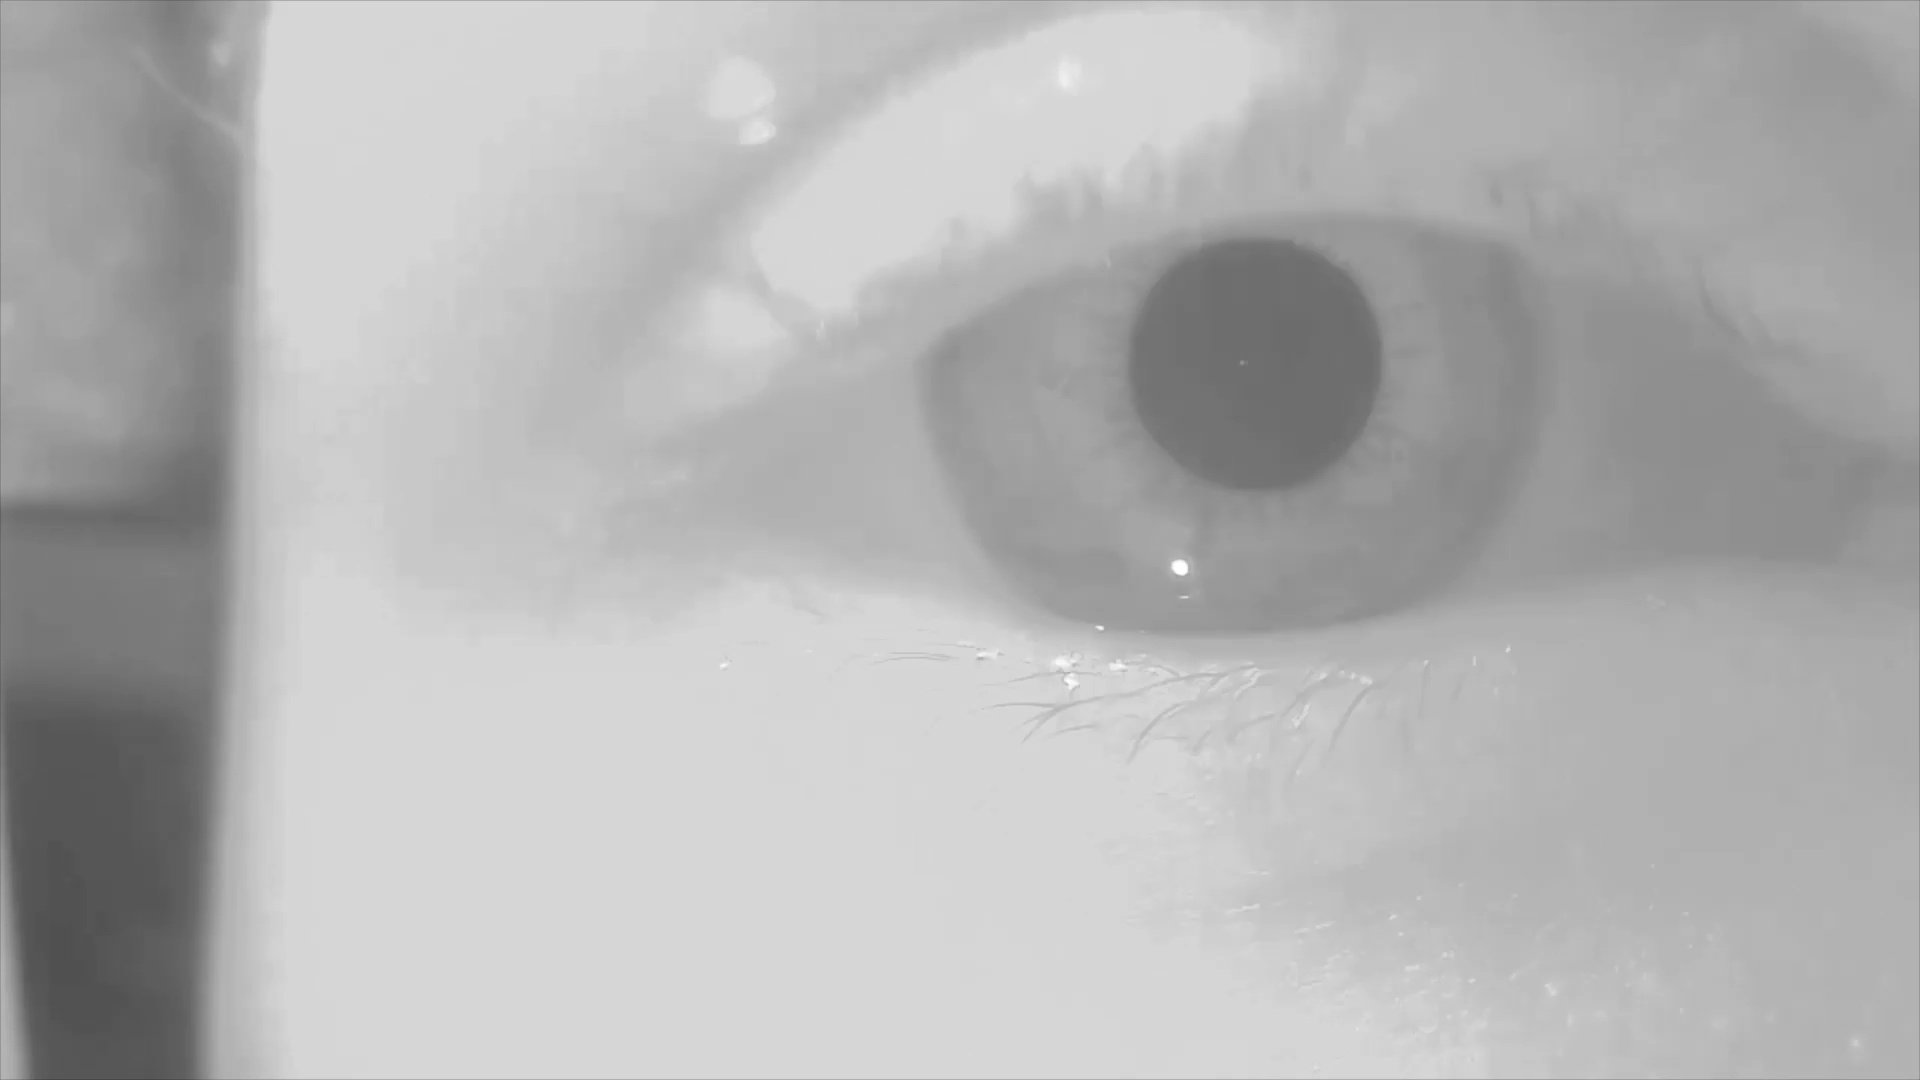pupil: (1129, 240, 1389, 500)
